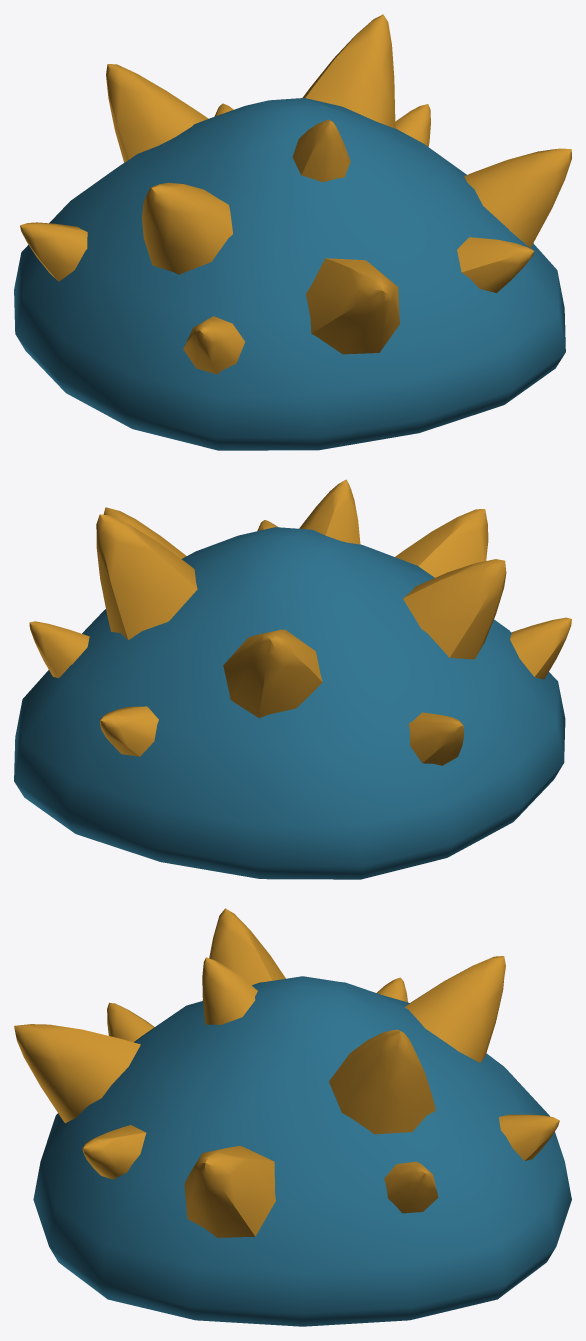
The model's file is mushroomhead_evolved.gltf.
3 renders of one model, top to bottom at view 1: azimuth 30°, elevation 25°; view 2: azimuth 150°, elevation 25°; view 3: azimuth 270°, elevation 25°, orthographic.
Parts seen in each view (by area): view 1: Mushnub_Evolved; view 2: Mushnub_Evolved; view 3: Mushnub_Evolved.
Part boxes in pixels (box(x1,y1,x2,y2)): Mushnub_Evolved: box(14, 14, 571, 450); Mushnub_Evolved: box(14, 479, 571, 879); Mushnub_Evolved: box(14, 908, 571, 1326).
Bounding box in the file's own units: 3.4 × 1.94 × 3.52.
